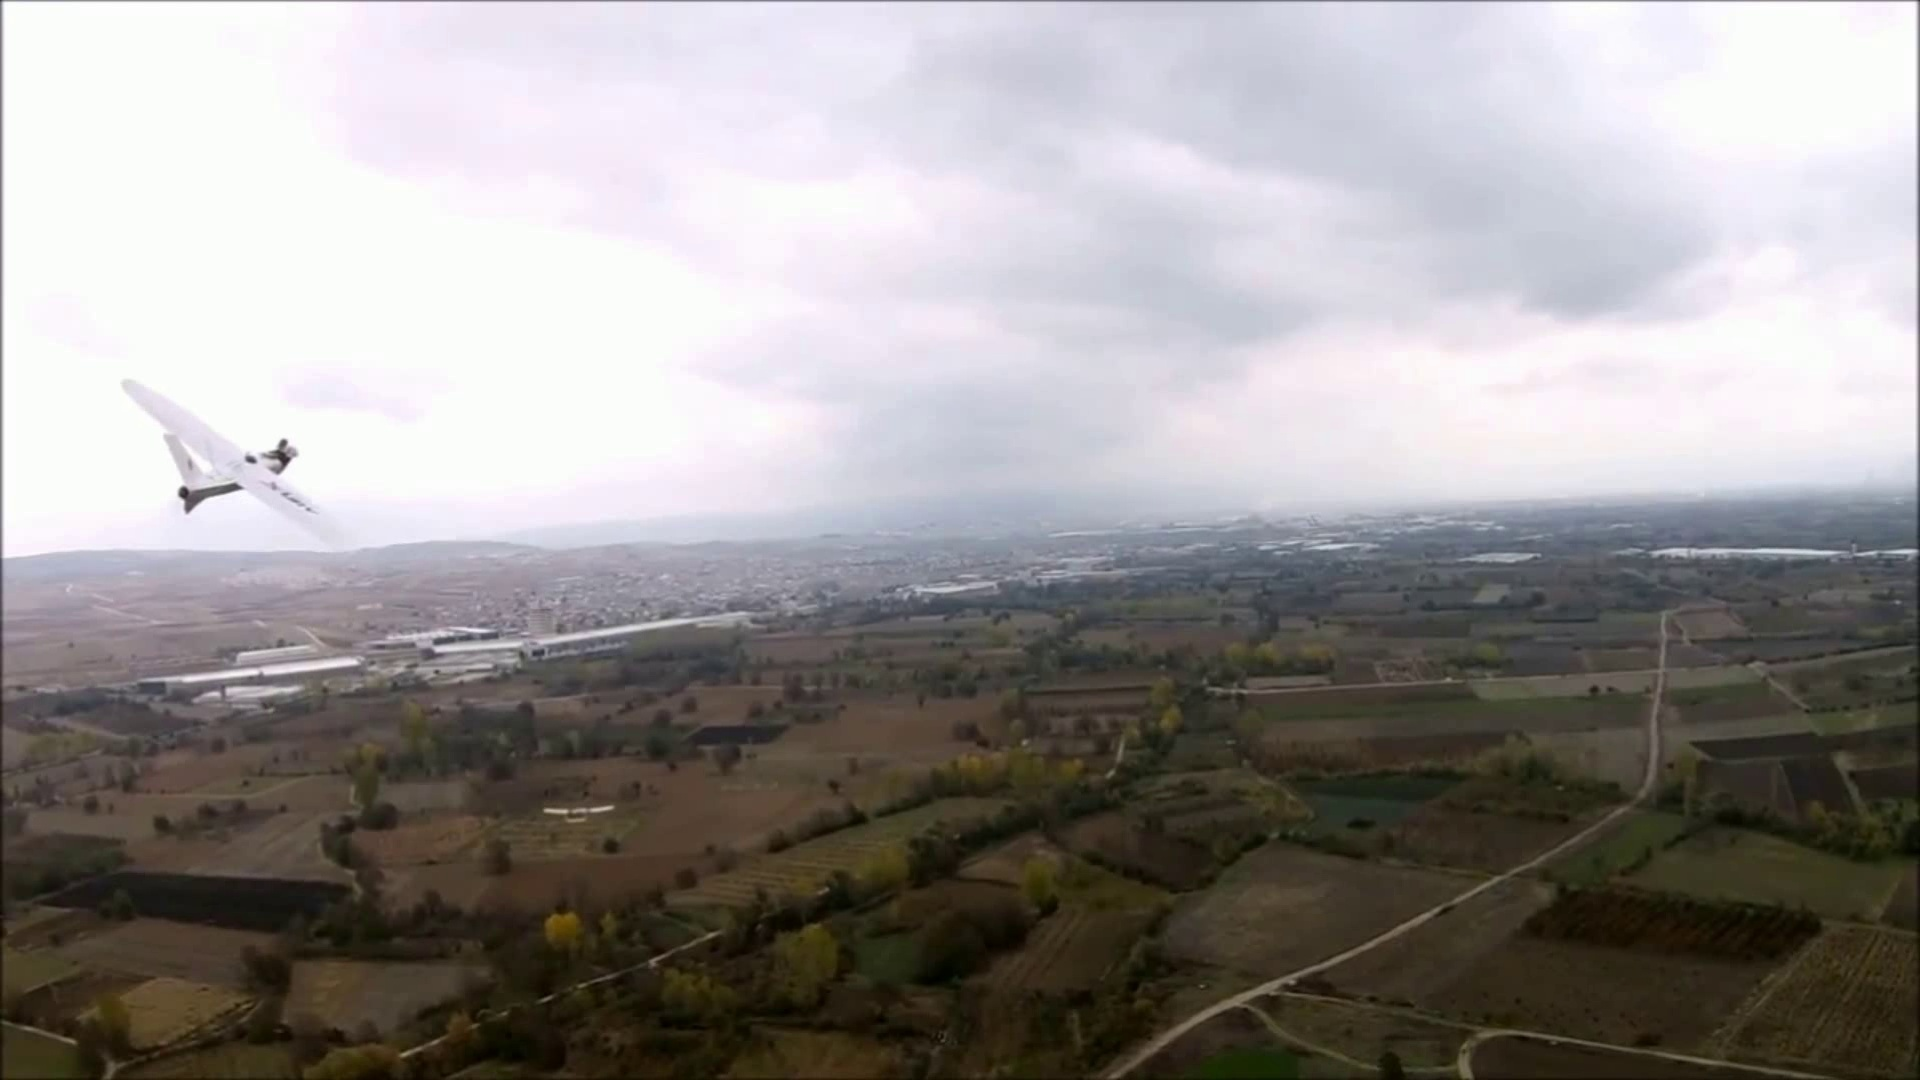airplane: (120, 378, 328, 524)
